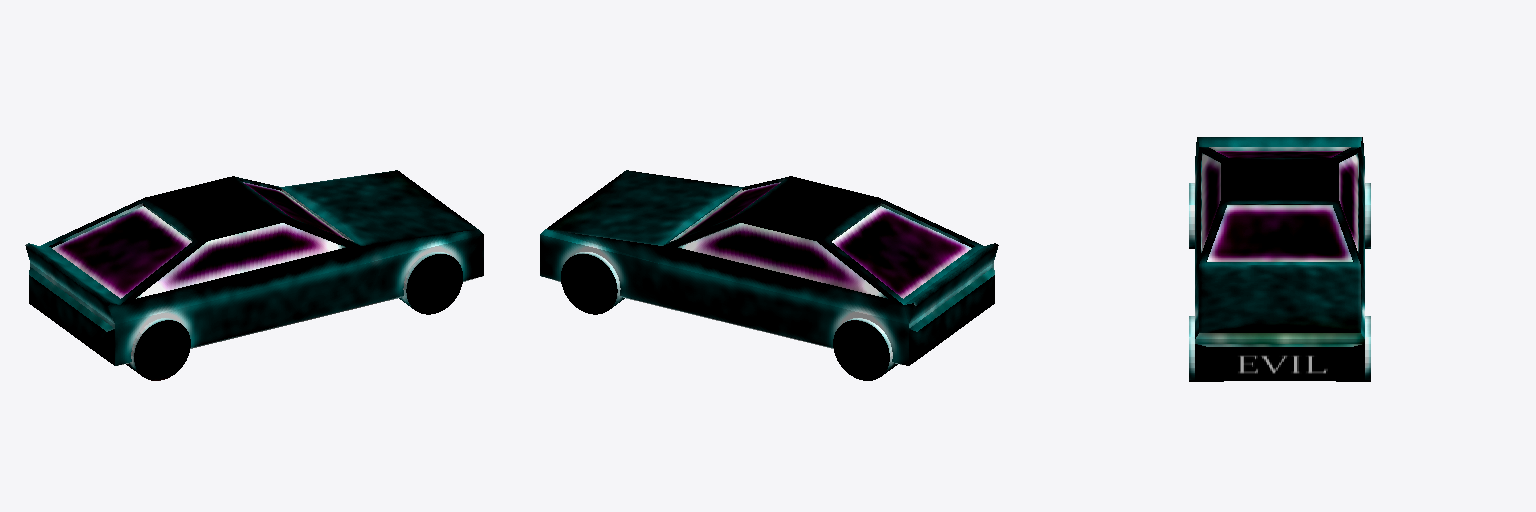
3 views of the same model, side by side, from view 1: azimuth 30°, elevation 25°; view 2: azimuth 150°, elevation 25°; view 3: azimuth 270°, elevation 25° (orthographic).
Visible parts, largest first — view 1: Cube; view 2: Cube; view 3: Cube.
Part boxes in pixels (bbox=[...]): Cube: bbox=[25, 170, 483, 380]; Cube: bbox=[540, 170, 998, 380]; Cube: bbox=[1189, 137, 1370, 381].
Size of the model in its own units: 6.3 by 1.82 by 2.61.
Materials: 1 (1 with a texture image).